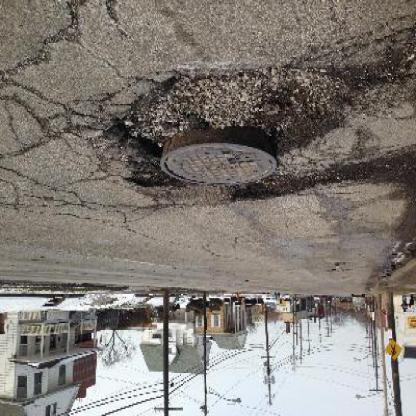pothole: (109, 62, 356, 191), (229, 173, 309, 206)
